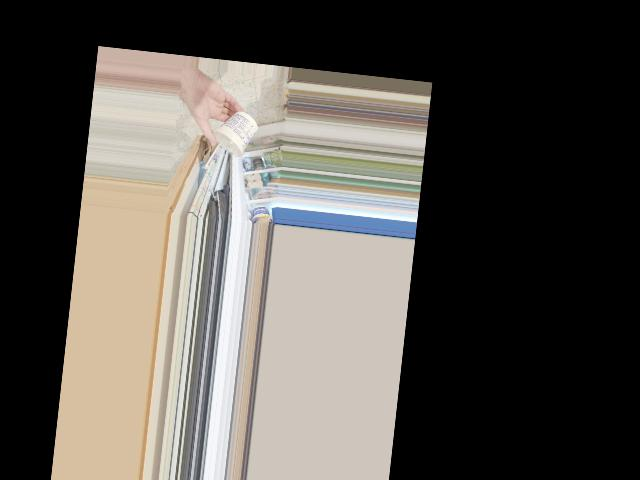cotage: (207, 106, 254, 155)
